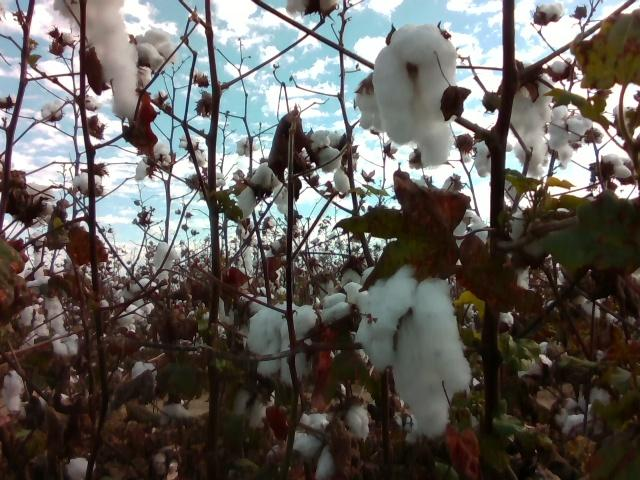cotton_ready: (355, 267, 469, 439), (373, 23, 459, 168), (53, 0, 137, 118), (247, 302, 318, 383), (441, 174, 489, 250), (506, 60, 553, 137), (291, 414, 344, 480), (237, 162, 281, 221), (136, 29, 180, 87), (29, 269, 67, 336), (510, 209, 555, 260), (232, 388, 277, 432), (547, 103, 589, 150), (321, 283, 368, 322), (589, 382, 620, 441), (473, 134, 513, 178), (354, 80, 386, 132), (515, 136, 549, 179), (309, 128, 341, 172), (21, 183, 55, 224), (136, 141, 171, 180), (554, 398, 588, 434), (341, 403, 371, 442), (151, 240, 176, 279), (1, 371, 25, 411), (285, 0, 337, 18), (178, 134, 208, 165), (131, 362, 159, 394), (134, 279, 159, 313), (67, 455, 99, 480), (602, 154, 632, 178), (51, 334, 79, 354)
